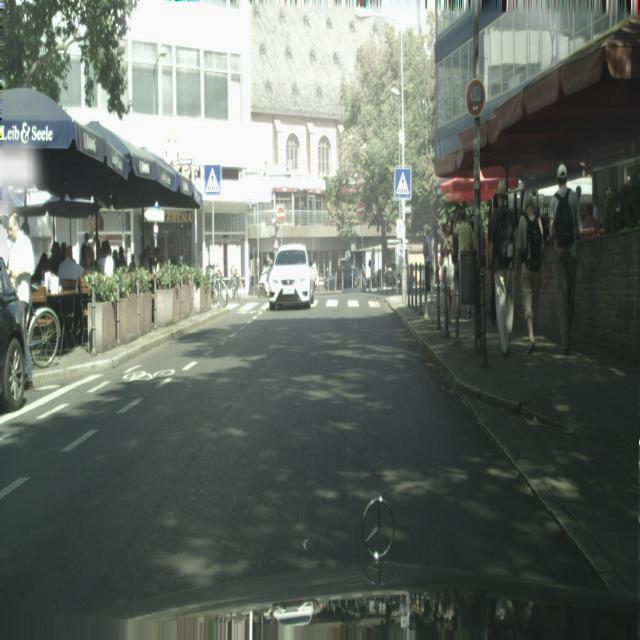person: (548, 162, 581, 352), (487, 180, 516, 356), (516, 190, 544, 354), (7, 210, 34, 330), (422, 226, 432, 297), (95, 240, 114, 276), (118, 244, 127, 269)
truck: (0, 259, 31, 413), (268, 242, 315, 309)
